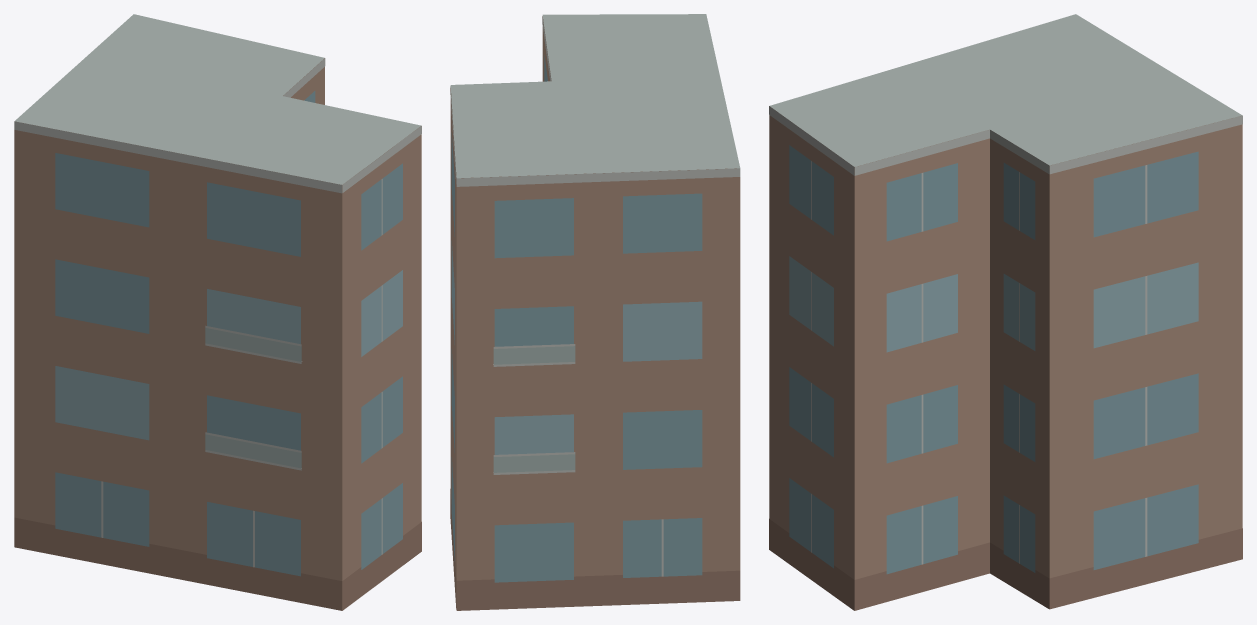
Rendered from survey-upis-32883174.glb.
The picture shows the model from 3 angles, left to right: view 1: azimuth 30°, elevation 25°; view 2: azimuth 150°, elevation 25°; view 3: azimuth 270°, elevation 25°; orthographic projection. The views are drawn at different scales.
Parts seen in each view (by area): view 1: survey-upis-32883174.tmp; view 2: survey-upis-32883174.tmp; view 3: survey-upis-32883174.tmp.
Part boxes in pixels (x1,y1,x2,y2): survey-upis-32883174.tmp: (14, 14, 421, 610); survey-upis-32883174.tmp: (450, 14, 740, 610); survey-upis-32883174.tmp: (769, 14, 1242, 610).
Size of the model in its own units: 9.03 by 12.2 by 11.81.
